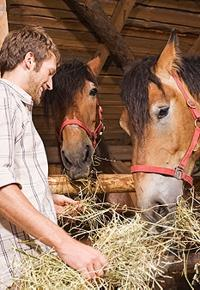person: (1, 27, 110, 290)
